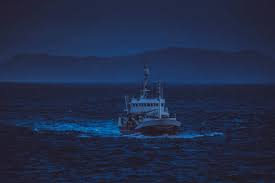boat: (115, 64, 184, 136)
